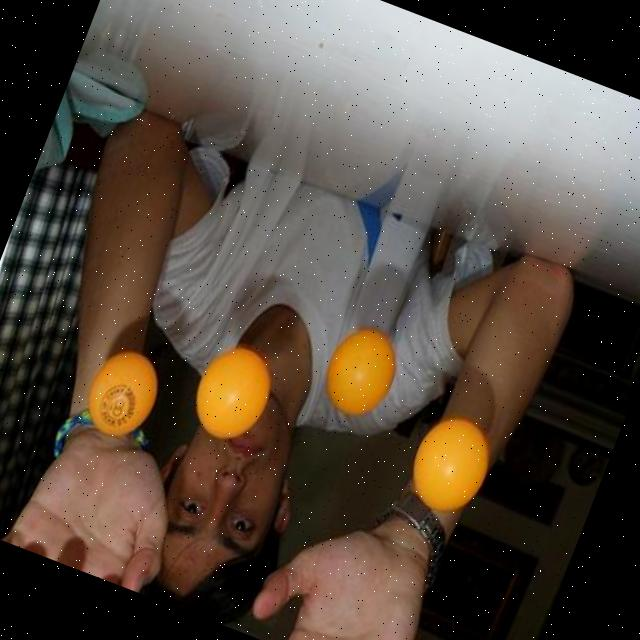ping-pong-ball: (399, 406, 505, 524), (183, 338, 283, 452), (314, 319, 409, 427), (76, 343, 170, 448)
